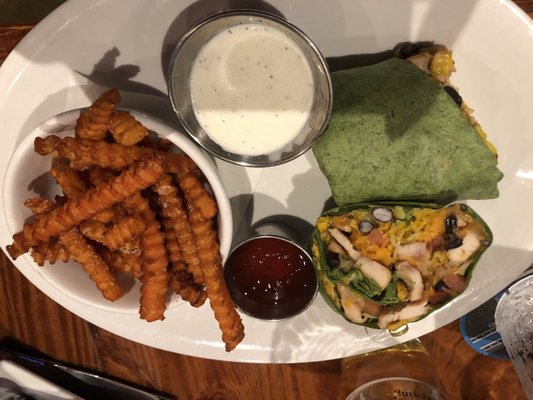sushi: (163, 1, 334, 168)
